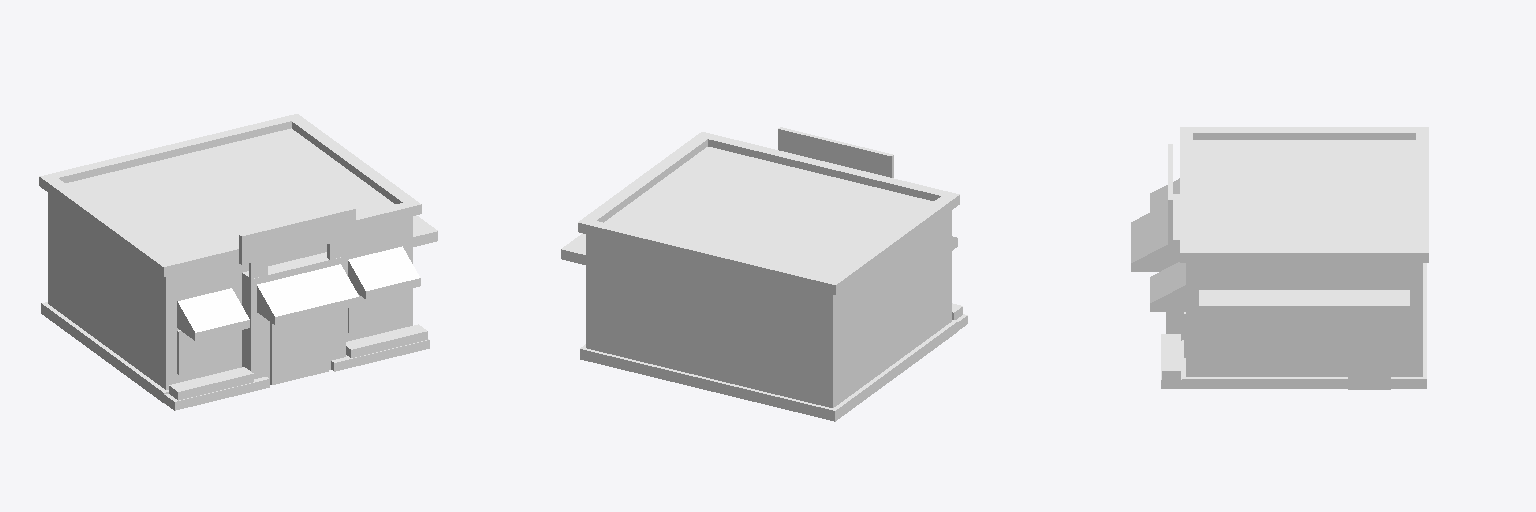
Rendered from Building_Pizza.obj.
3 views of the same model, side by side, from view 1: azimuth 30°, elevation 25°; view 2: azimuth 150°, elevation 25°; view 3: azimuth 270°, elevation 25° (orthographic).
Size of the model in its own units: 1497 by 780 by 1357.